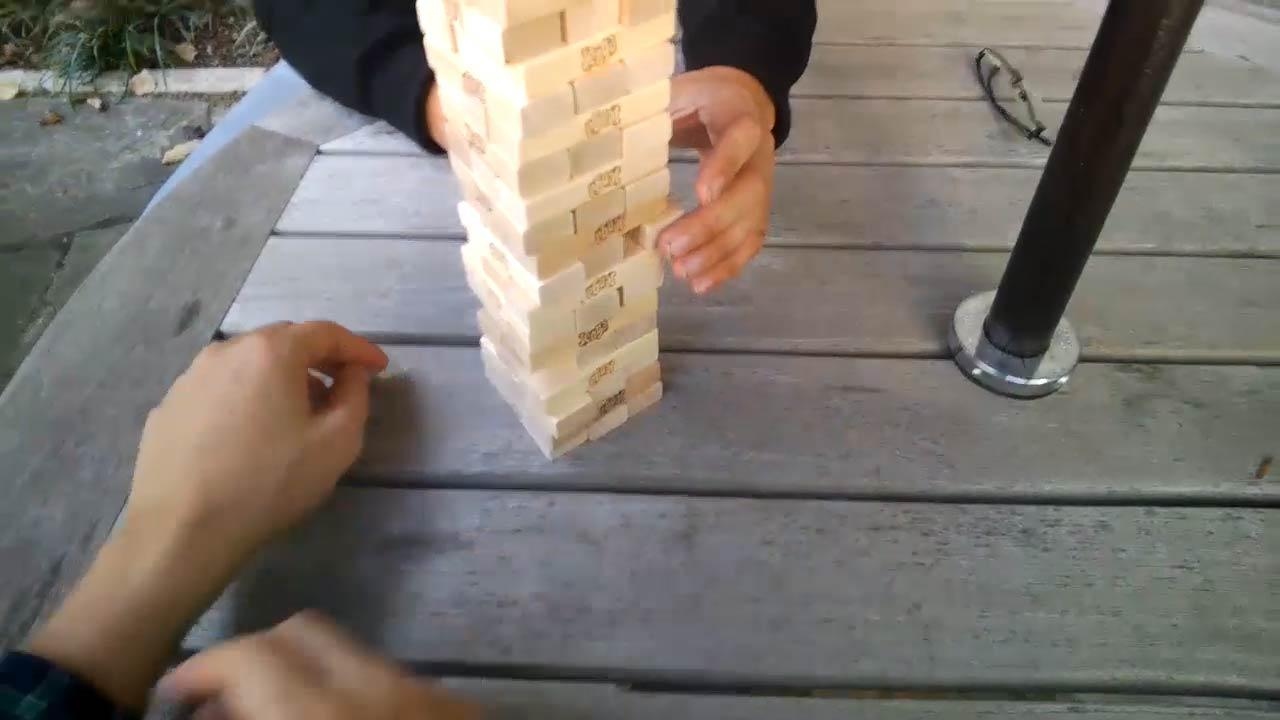hand: (119, 317, 397, 546), (147, 608, 460, 720), (657, 64, 775, 294)
